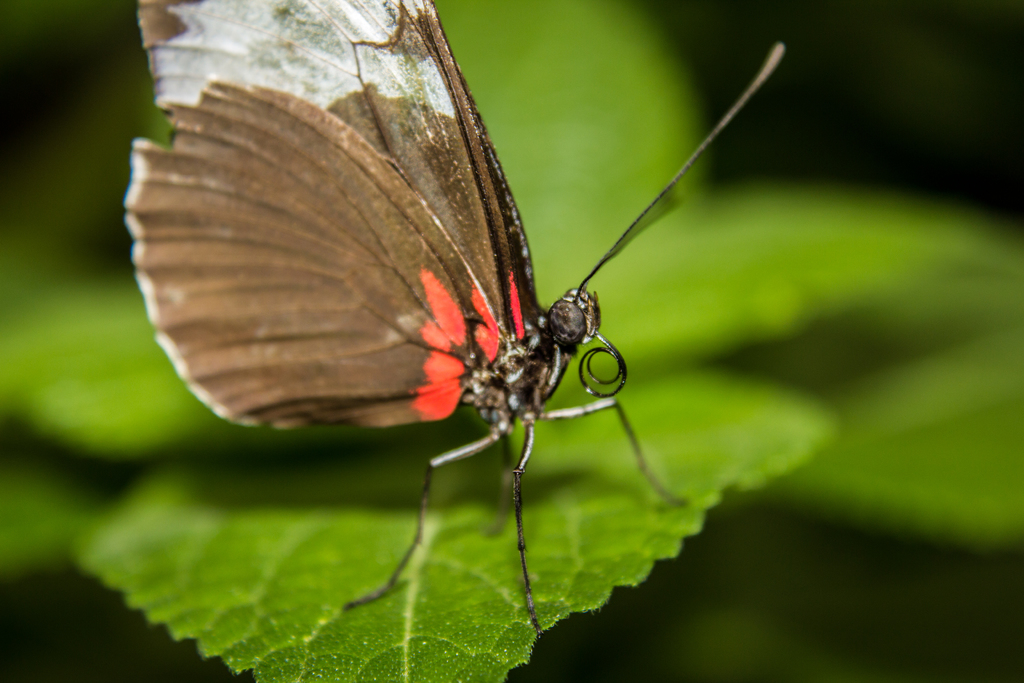Butterfly: (116, 2, 750, 621)
